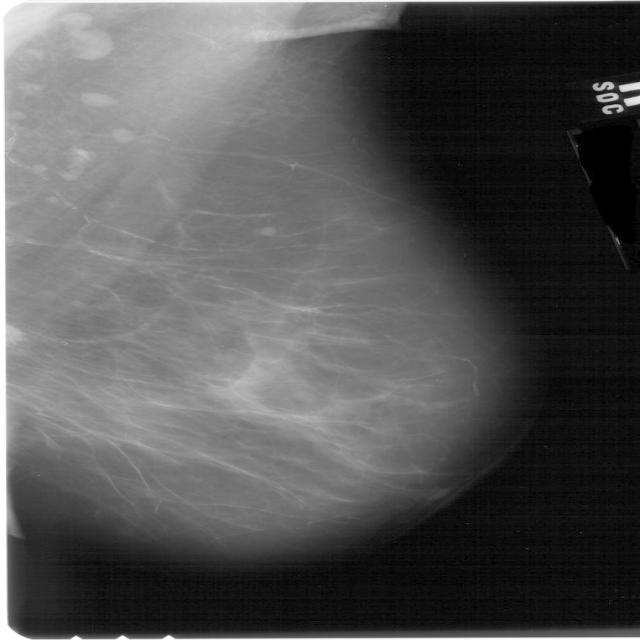tumour: (4, 324, 22, 343)
